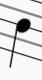note: (7, 1, 33, 70)
